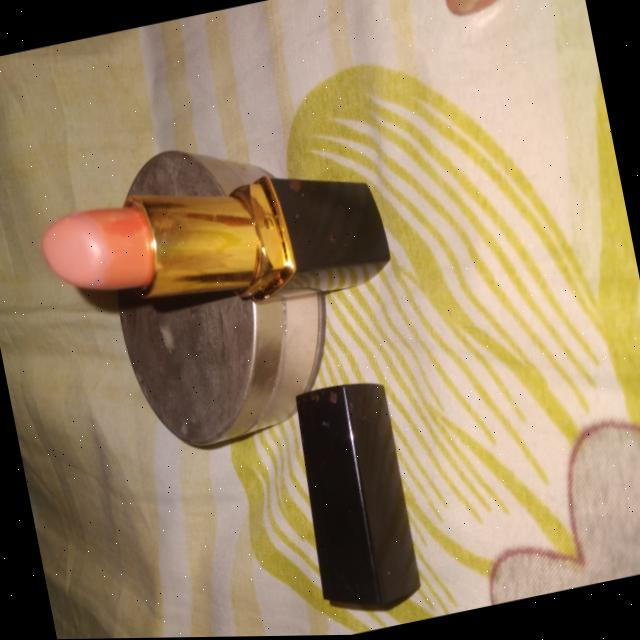lip stick: (24, 100, 422, 422)
